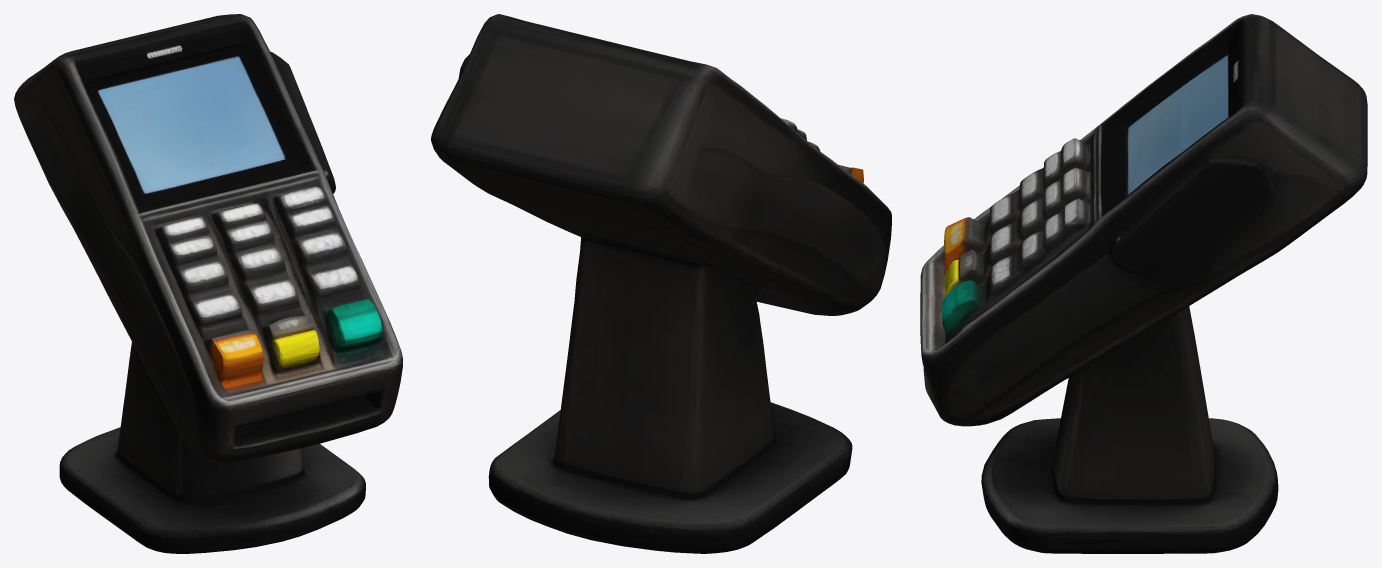
3 views of the same model, side by side, from view 1: azimuth 30°, elevation 25°; view 2: azimuth 150°, elevation 25°; view 3: azimuth 270°, elevation 25° (orthographic). The views are drawn at different scales.
Visible parts, largest first — view 1: geometry_0; view 2: geometry_0; view 3: geometry_0.
Part boxes in pixels (x1=…): geometry_0: x1=14, y1=14, x2=402, y2=553; geometry_0: x1=431, y1=14, x2=891, y2=553; geometry_0: x1=920, y1=14, x2=1367, y2=553.
Bounding box in the file's own units: 0.5698 × 0.9996 × 0.9186.
1 material, 1 textured.
